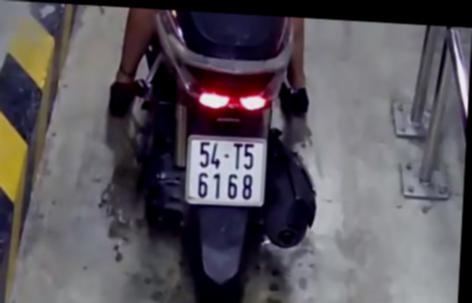License_Plate: (176, 127, 275, 216)
